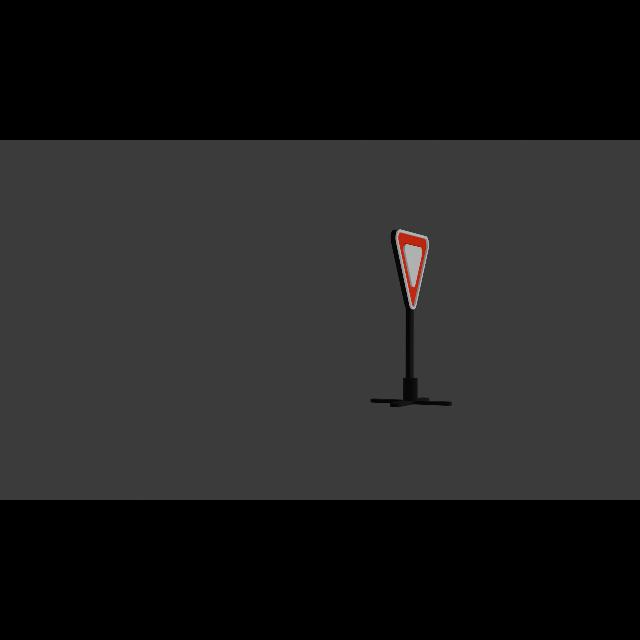sign_yield: (392, 230, 430, 311)
